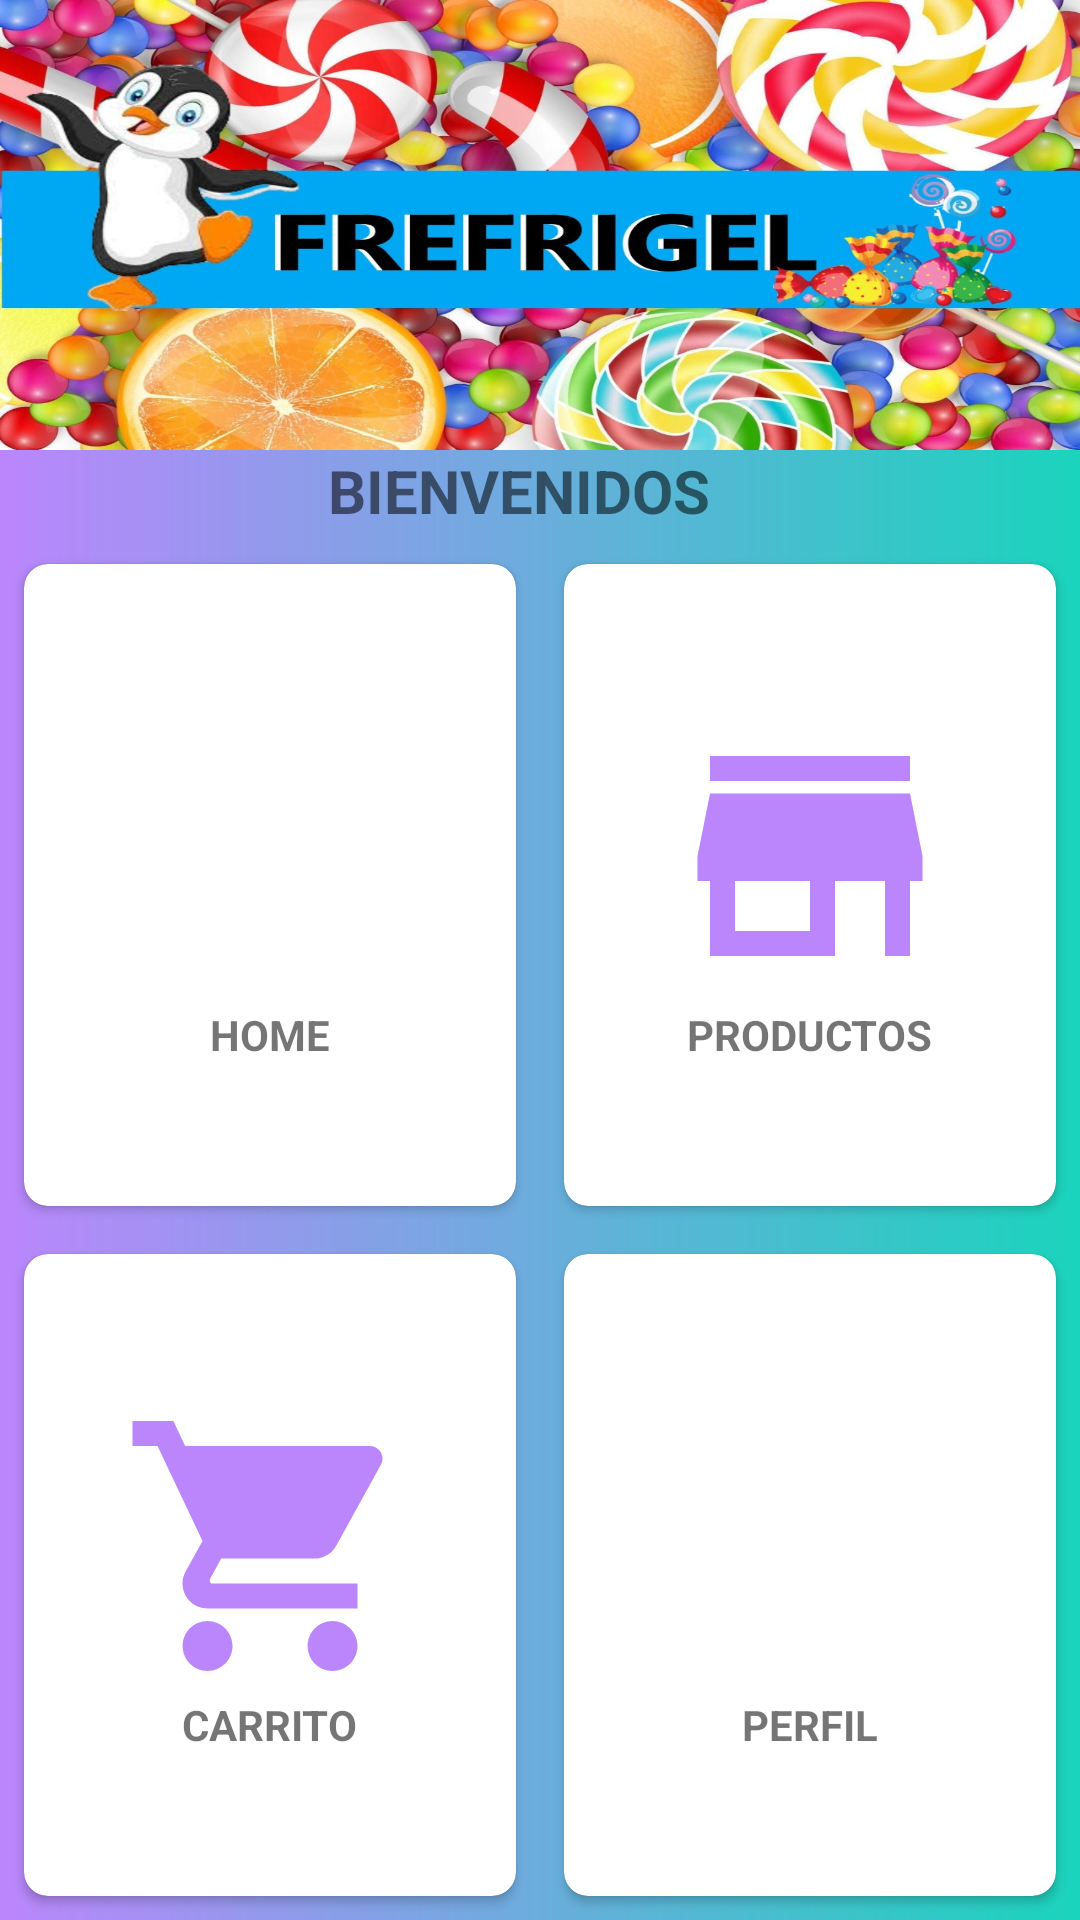

Point at icon controls on the screen. Image size 1080 x 1920, points as (x=x, y=y).
store: (x=810, y=856)
